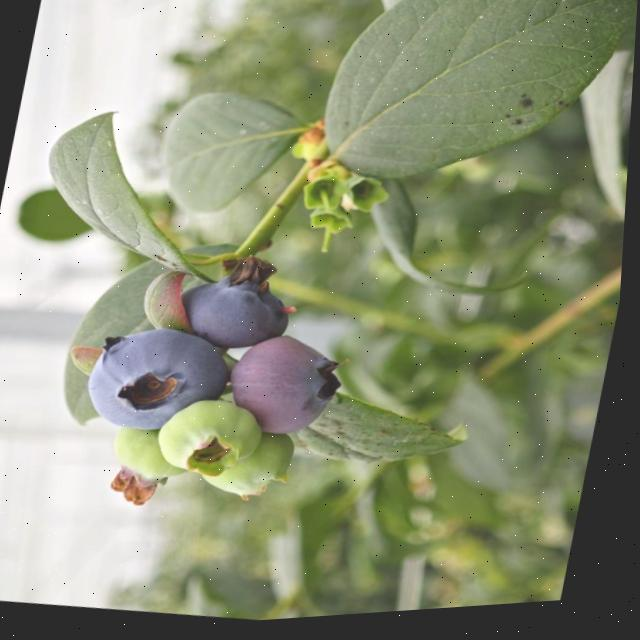RipeBlueBerry: (81, 314, 242, 447), (174, 268, 303, 361)
Semi-RipeBlueBerry: (224, 328, 354, 451)
UnripeBlueBerry: (153, 391, 275, 490)
